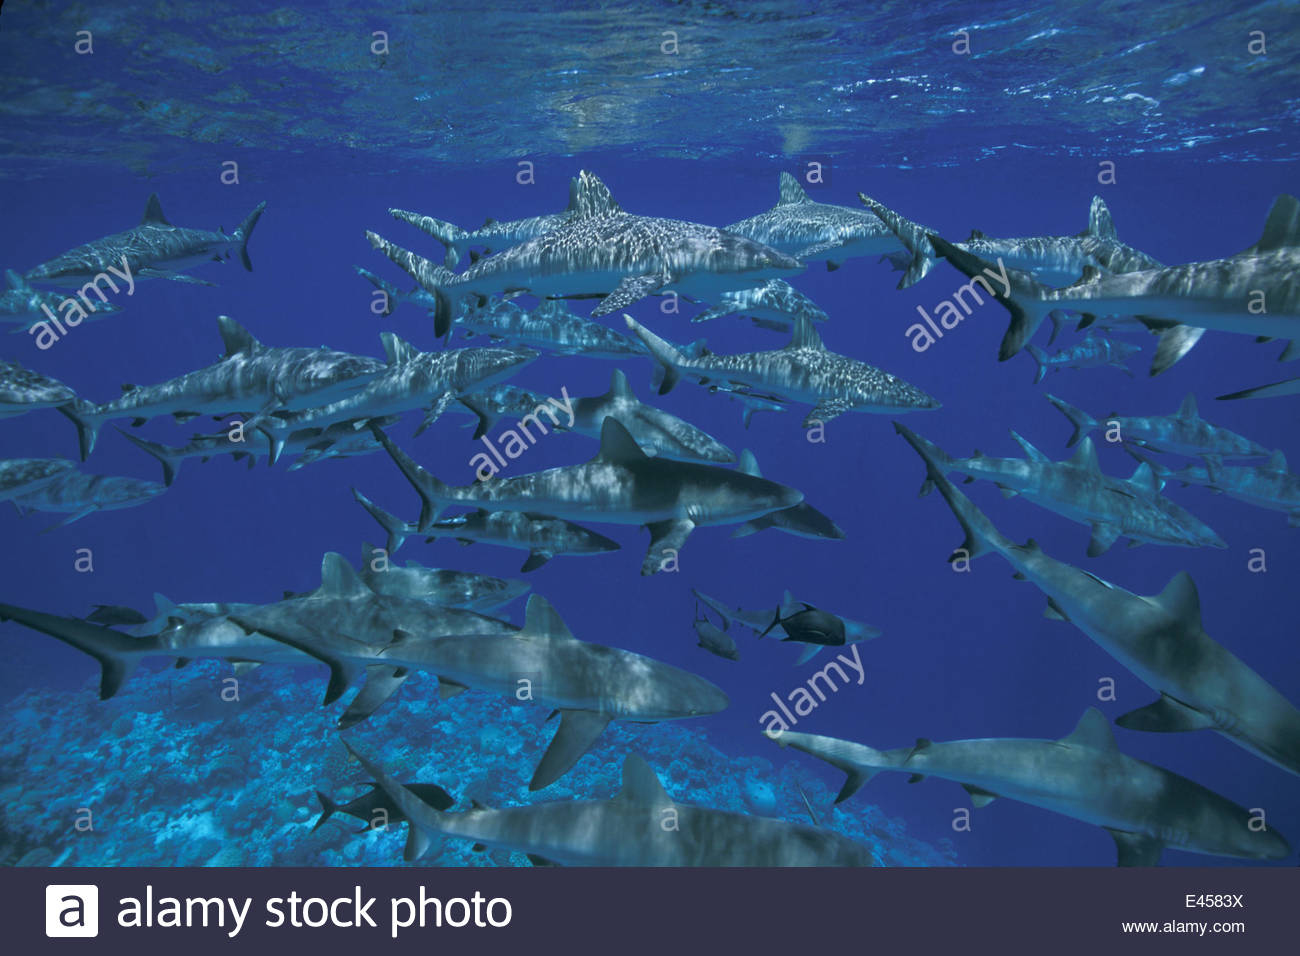Carcharhinus_amblyrhynchos: (2, 161, 1300, 862)
